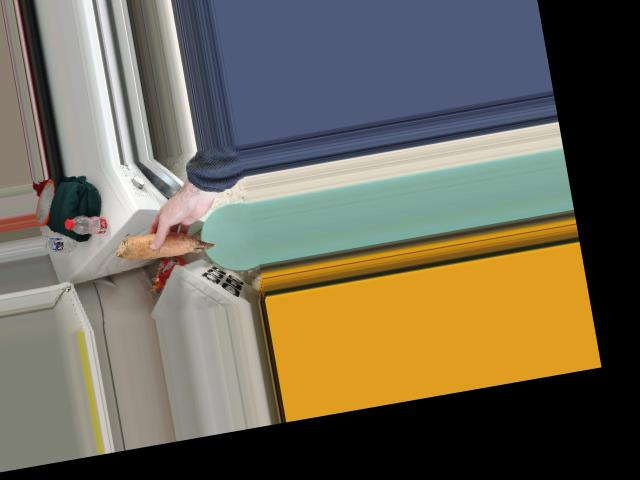sweet_potato: (109, 218, 214, 272)
